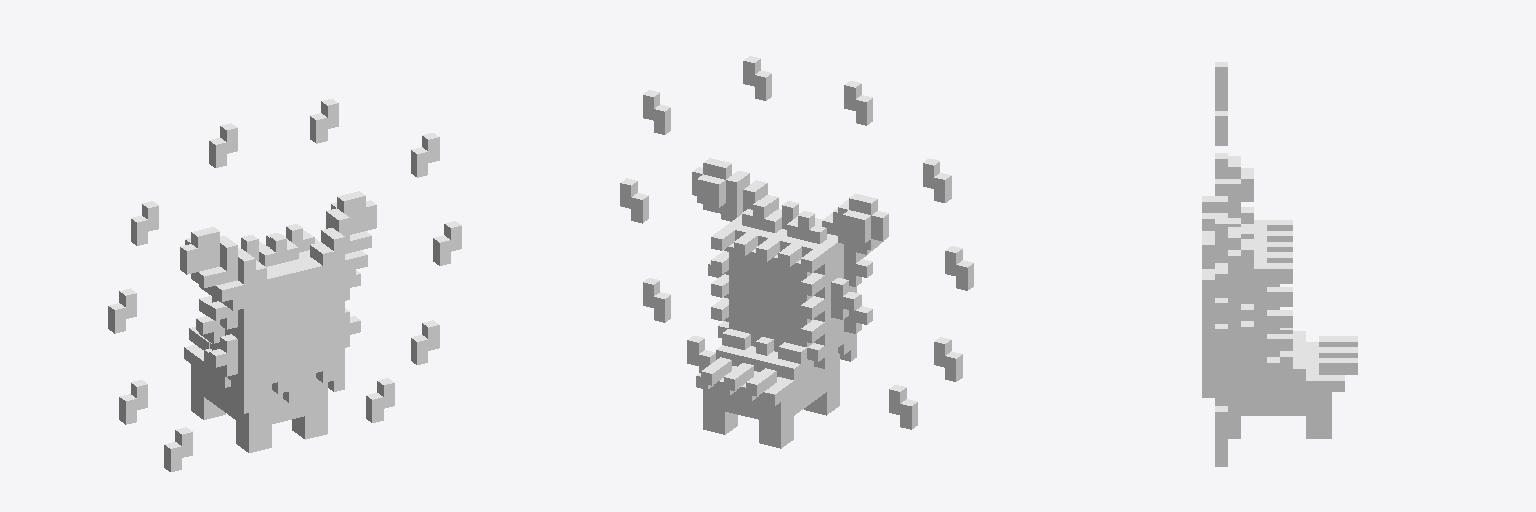
The model's file is electeevee.obj.
3 renders of one model, left to right at view 1: azimuth 30°, elevation 25°; view 2: azimuth 150°, elevation 25°; view 3: azimuth 270°, elevation 25°, orthographic.
Visible parts, largest first — view 1: object 1; view 2: object 1; view 3: object 1.
Boxes of the visible parts, <box> form: object 1: <box>108,99,461,471</box>; object 1: <box>620,56,973,448</box>; object 1: <box>1202,62,1357,466</box>.
Bounding box in the file's own units: 3.1 × 2.8 × 1.2.